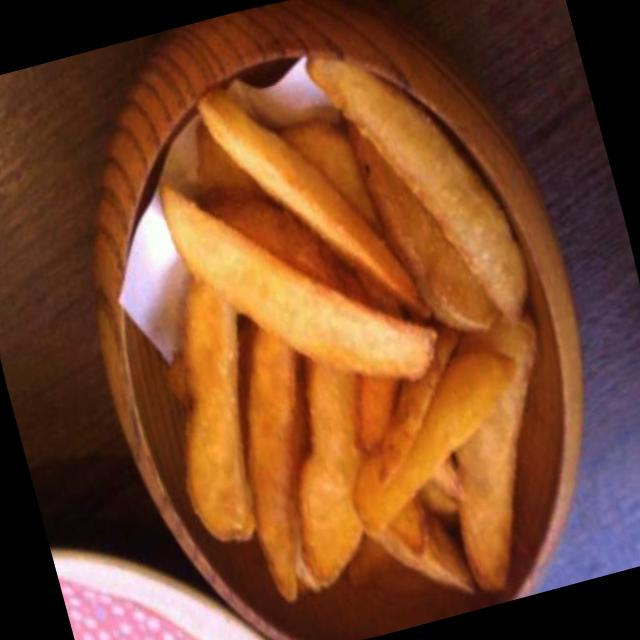French Fries: (71, 29, 610, 640)
